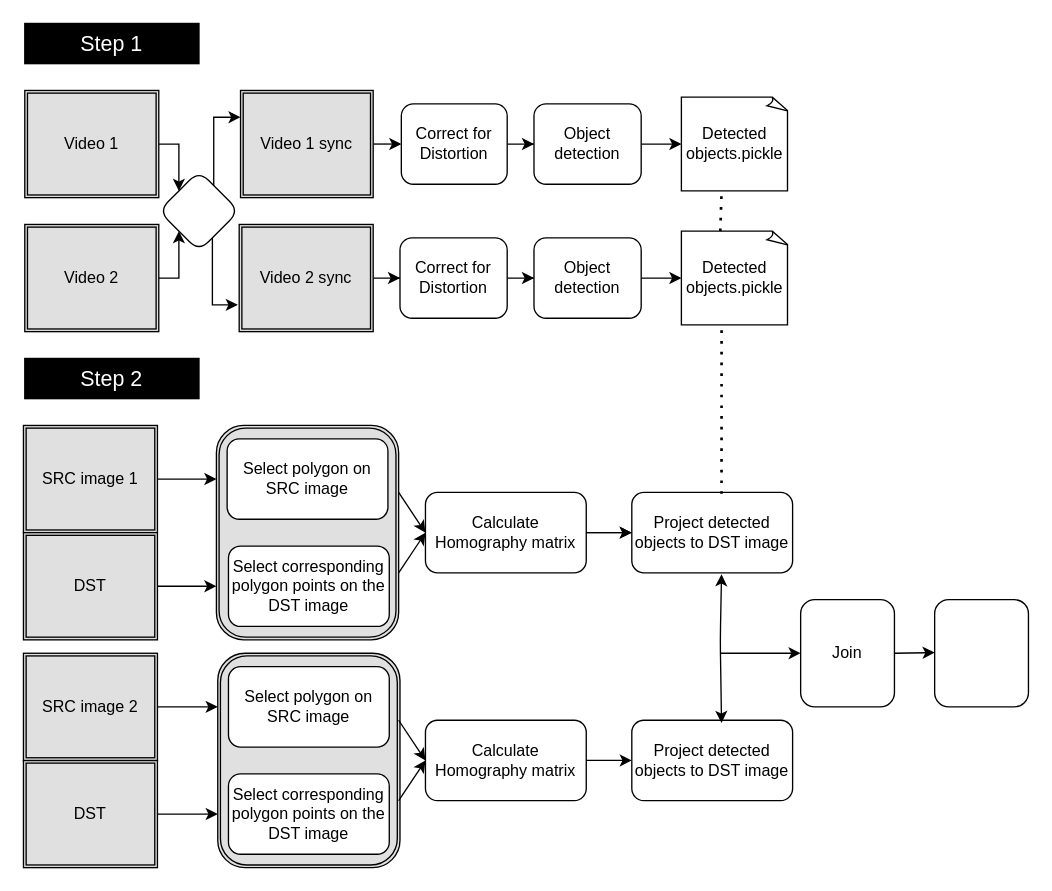
This 1052x891 diagram has some shape labels left out. The shapes that lost their labels are listed below. From the top down, each one's centre as x and y in pixels, then its label:
At [198,210]: "Sync".
At [980,652]: "Calculate Unique IDs".
